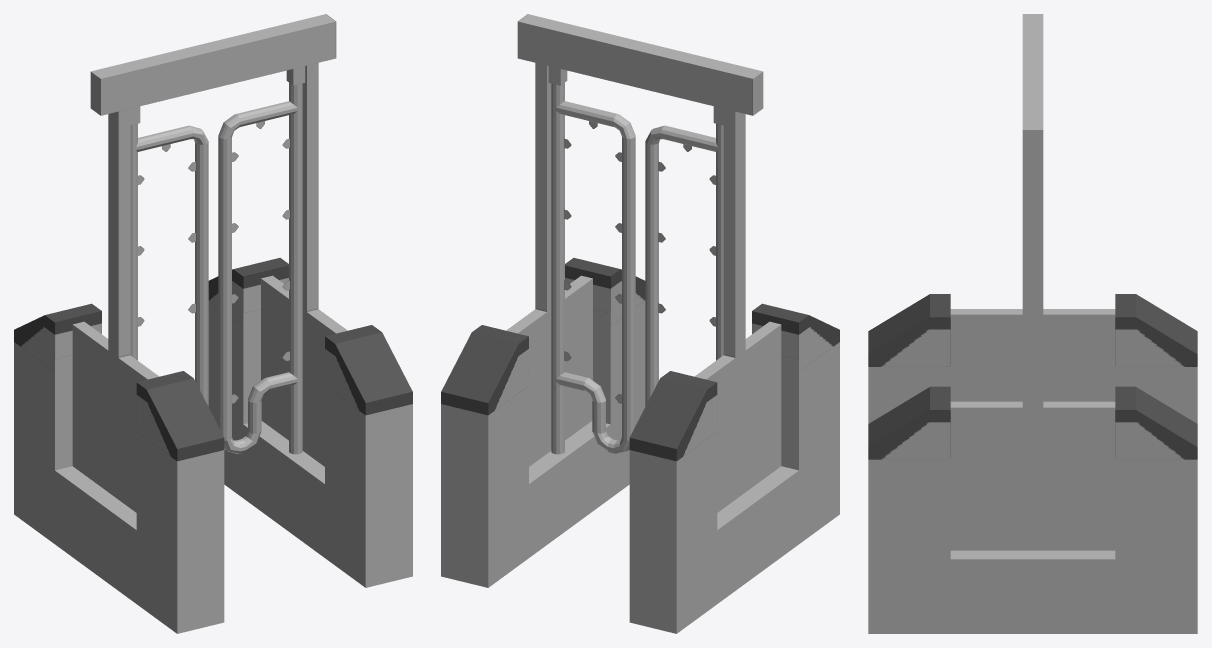
The model's file is nyc_subway_fare_gate_4_twoway_closed.obj.
3 views of the same model, side by side, from view 1: azimuth 30°, elevation 25°; view 2: azimuth 150°, elevation 25°; view 3: azimuth 270°, elevation 25° (orthographic).
Parts seen in each view (by area): view 1: right, left, doorRight, doorLeft; view 2: right, left, doorRight, doorLeft; view 3: right, left.
Part boxes in pixels (bbox=[...]): right: bbox=[72, 83, 412, 633]; left: bbox=[14, 14, 347, 603]; doorRight: bbox=[218, 101, 299, 453]; doorLeft: bbox=[134, 125, 208, 406]; right: bbox=[441, 83, 839, 587]; left: bbox=[506, 14, 839, 633]; doorRight: bbox=[554, 101, 635, 453]; doorLeft: bbox=[645, 125, 719, 406]; right: bbox=[868, 309, 1197, 633]; left: bbox=[868, 14, 1197, 550].
Size of the model in its own units: 1.25 by 2.53 by 1.5.
Materials: 1 (1 with a texture image).
